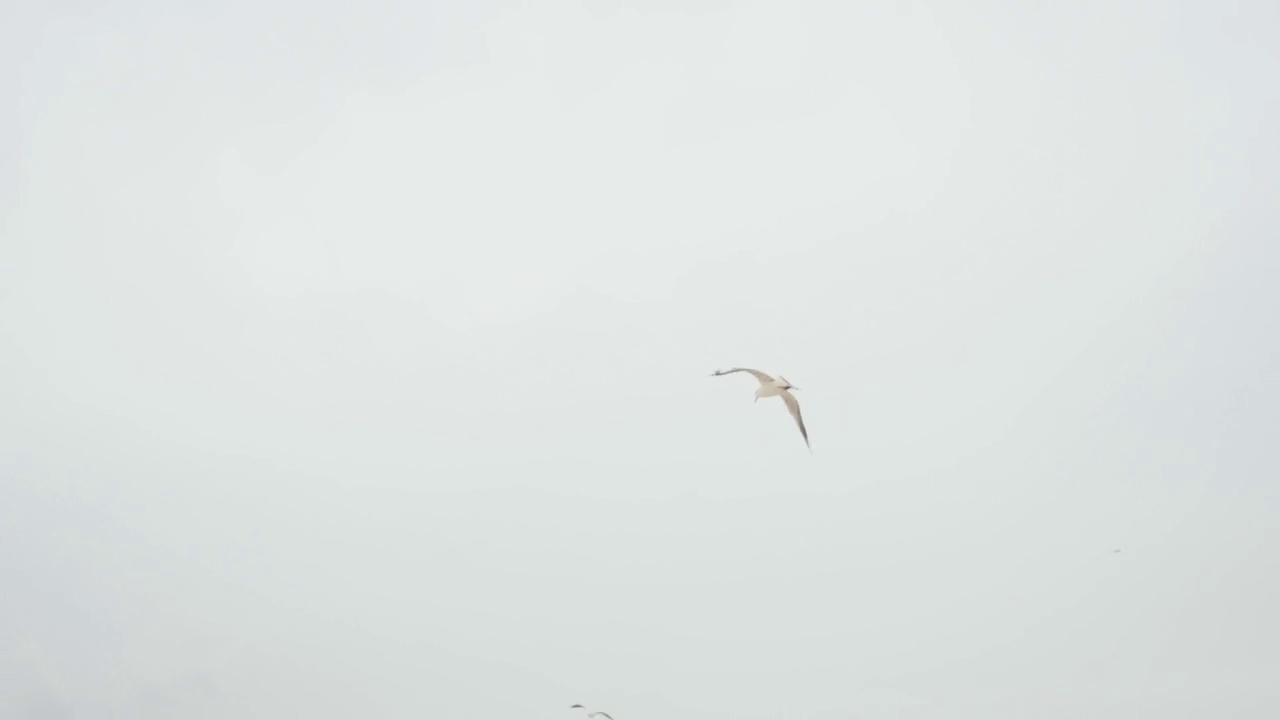bird: (712, 369, 811, 447), (571, 704, 614, 720)
